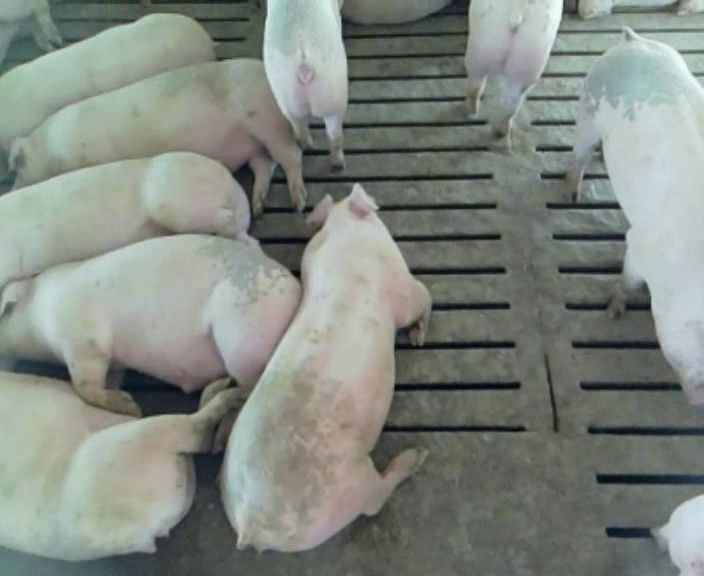pig: (221, 184, 430, 551), (568, 28, 703, 405), (9, 59, 305, 213), (0, 372, 241, 559), (0, 152, 261, 290), (0, 14, 213, 151), (263, 1, 347, 167), (465, 1, 562, 137), (651, 494, 703, 574)
